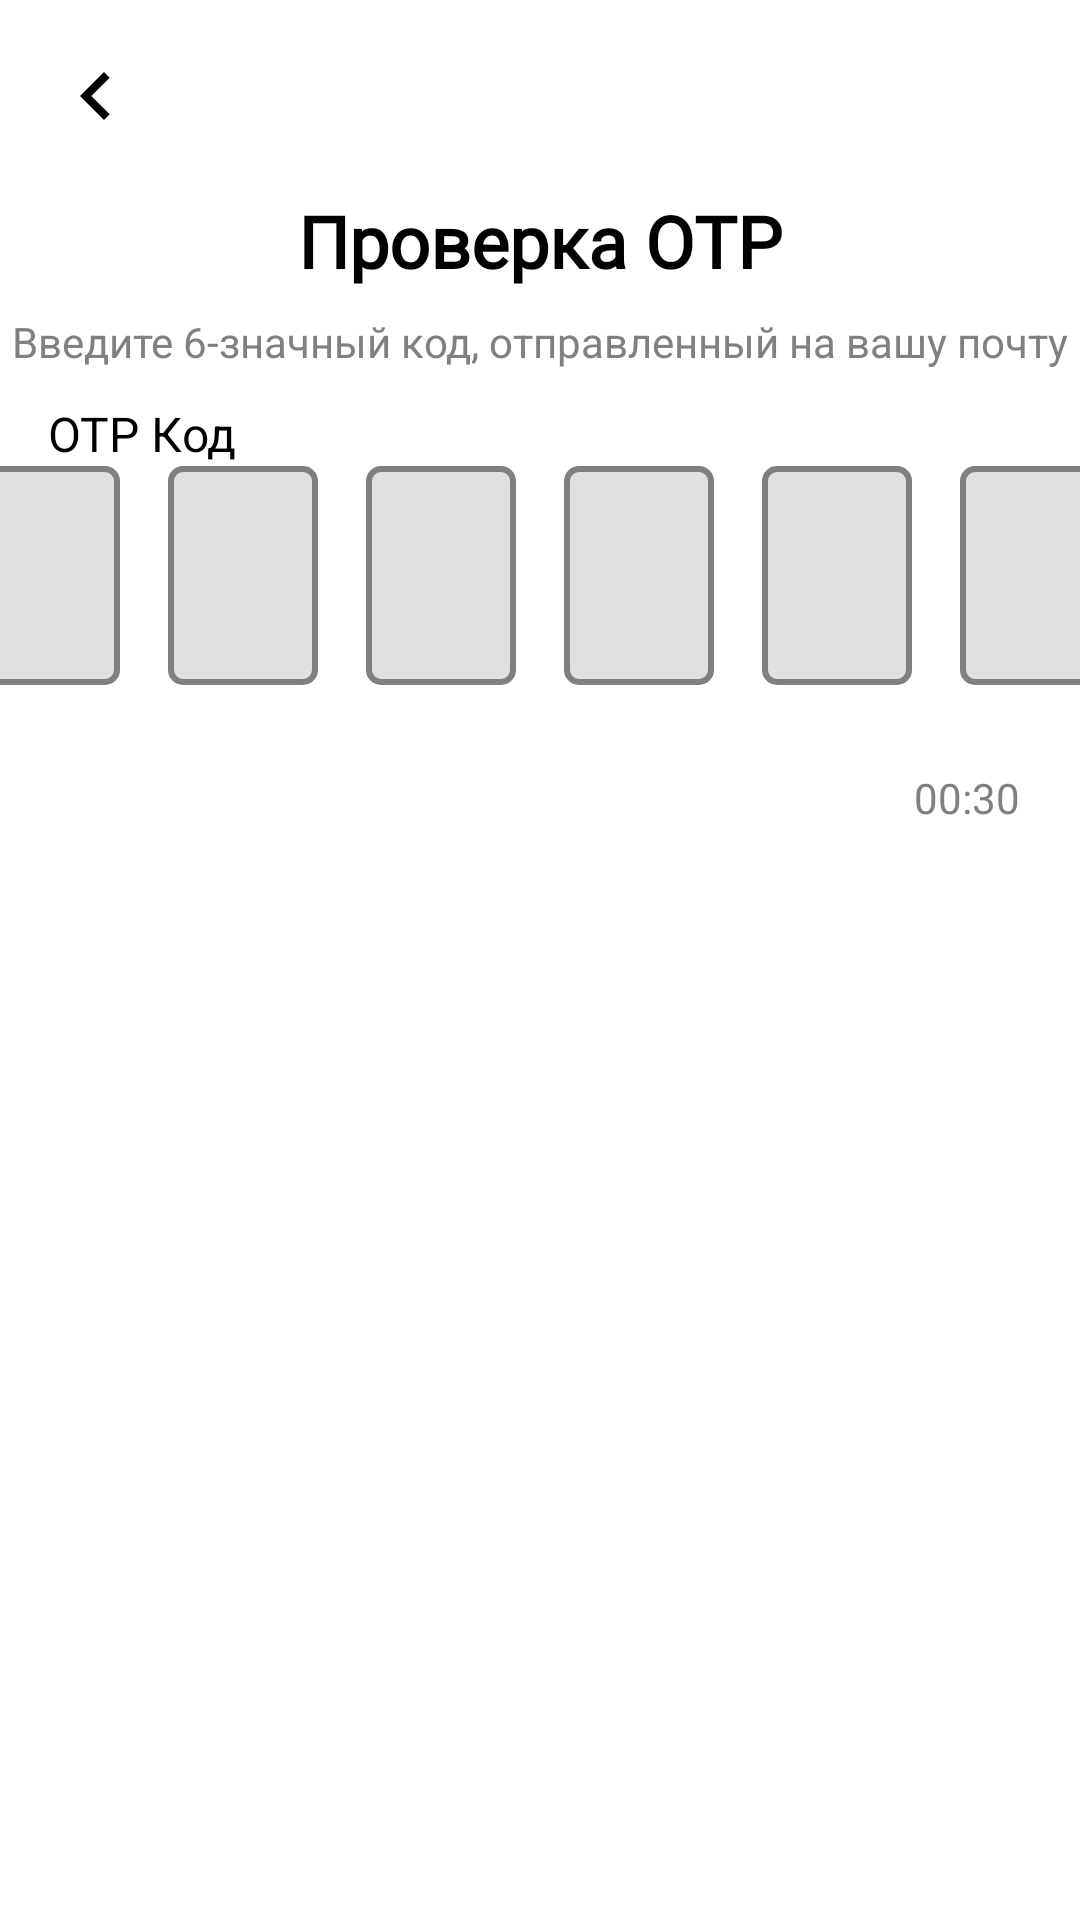

Screen size 1080*1920. Icon name, then its box in pixels as (x1,y1,x2,y2):
Back: (80,72,110,120)
